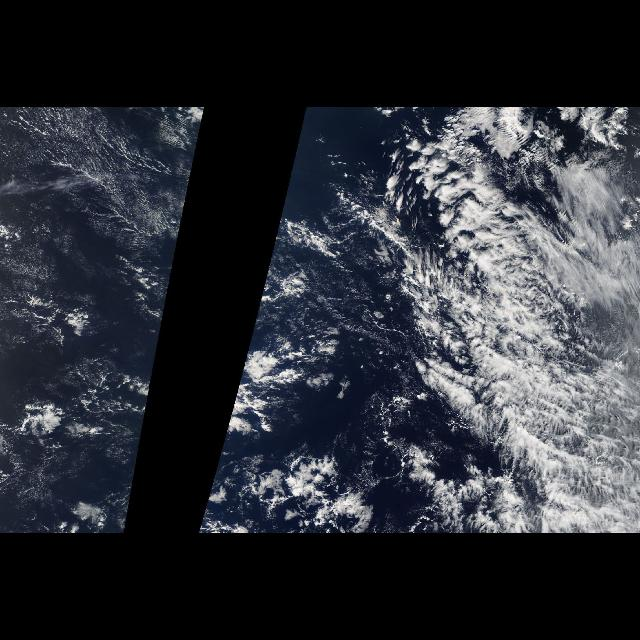Fish: (348, 115, 632, 528)
Gravel: (8, 292, 132, 500), (240, 356, 364, 534)
Sugar: (3, 109, 189, 383), (288, 212, 414, 458)
